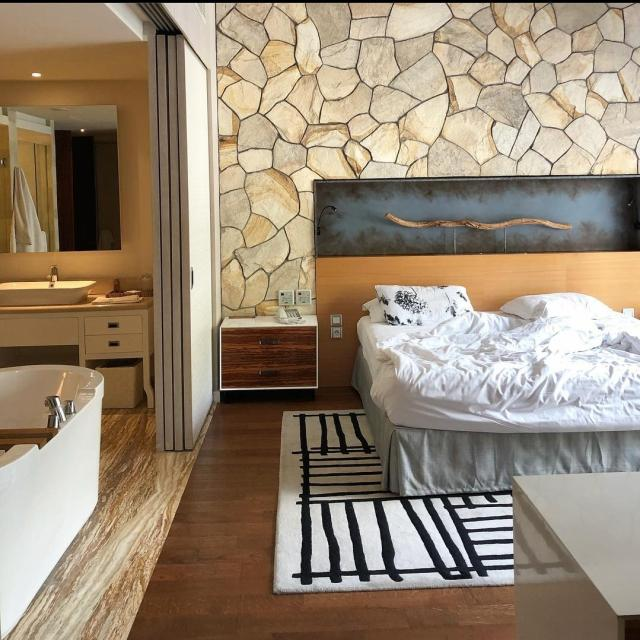bed: (347, 267, 640, 476)
